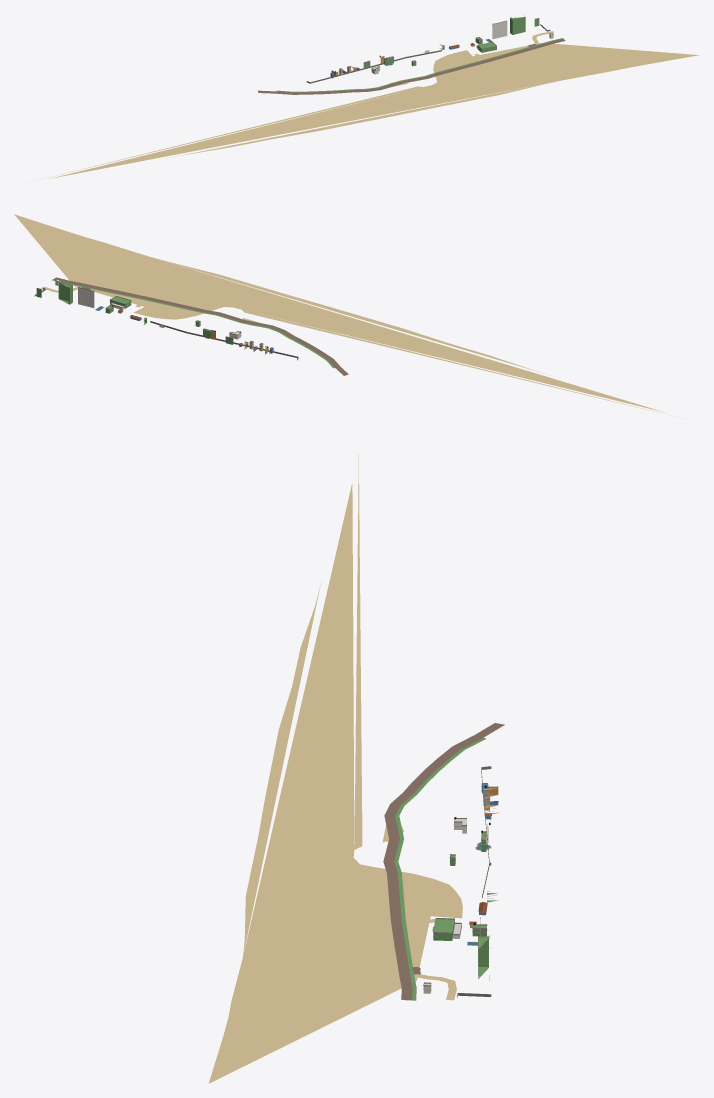
File: zone_t3_-2.glb
3 views of the same model, one above another, from view 1: azimuth 30°, elevation 25°; view 2: azimuth 150°, elevation 25°; view 3: azimuth 270°, elevation 25° (orthographic). The views are drawn at different scales.
Parts seen in each view (by area): view 1: zone_plage_t3_-2, promenade_t3_-2, bld_peinture_vert_t3_-2-col, piste_cyclable_t3_-2, bld_peinture_blanc_t3_-2-col; view 2: zone_plage_t3_-2, promenade_t3_-2, bld_peinture_vert_t3_-2-col, piste_cyclable_t3_-2, bld_peinture_blanc_t3_-2-col; view 3: zone_plage_t3_-2, promenade_t3_-2, piste_cyclable_t3_-2, bld_peinture_vert_t3_-2-col.
Boxes of the visible parts, x1,y1,x2,y2 form: zone_plage_t3_-2: [41, 43, 699, 179]; promenade_t3_-2: [258, 39, 565, 94]; bld_peinture_vert_t3_-2-col: [363, 17, 539, 67]; piste_cyclable_t3_-2: [277, 38, 563, 92]; bld_peinture_blanc_t3_-2-col: [371, 21, 553, 74]; zone_plage_t3_-2: [14, 214, 675, 416]; promenade_t3_-2: [53, 277, 348, 375]; bld_peinture_vert_t3_-2-col: [36, 282, 233, 344]; piste_cyclable_t3_-2: [52, 279, 334, 368]; bld_peinture_blanc_t3_-2-col: [55, 279, 241, 339]; zone_plage_t3_-2: [208, 454, 462, 1083]; promenade_t3_-2: [383, 723, 504, 1000]; piste_cyclable_t3_-2: [394, 737, 486, 1000]; bld_peinture_vert_t3_-2-col: [433, 832, 497, 978].
Size of the model in its own units: 1098 by 25.9 by 218.
